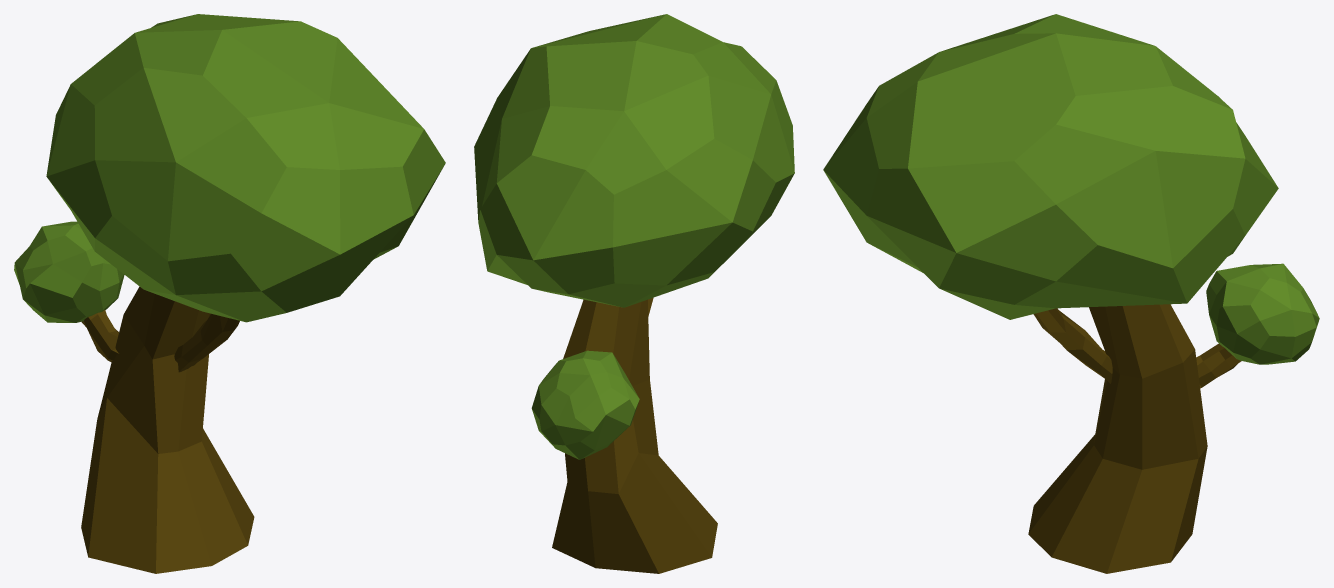
File: Tree2.fbx
3 renders of one model, left to right at view 1: azimuth 30°, elevation 25°; view 2: azimuth 150°, elevation 25°; view 3: azimuth 270°, elevation 25°, orthographic. The views are drawn at different scales.
Parts seen in each view (by area): view 1: pPlatonic5, pCube3, pPlatonic4, pCube4, pCube5; view 2: pPlatonic5, pCube3, pPlatonic4; view 3: pPlatonic5, pCube3, pPlatonic4, pCube4, pCube5.
Part boxes in pixels (x1=…): pPlatonic5: x1=46, y1=14, x2=445, y2=322; pCube3: x1=81, y1=286, x2=254, y2=573; pPlatonic4: x1=14, y1=221, x2=124, y2=322; pCube4: x1=174, y1=313, x2=239, y2=372; pCube5: x1=81, y1=310, x2=118, y2=362; pPlatonic5: x1=474, y1=14, x2=794, y2=307; pCube3: x1=552, y1=299, x2=717, y2=573; pPlatonic4: x1=531, y1=350, x2=639, y2=459; pPlatonic5: x1=823, y1=14, x2=1278, y2=319; pCube3: x1=1028, y1=304, x2=1207, y2=573; pPlatonic4: x1=1206, y1=263, x2=1319, y2=364; pCube4: x1=1033, y1=308, x2=1112, y2=383; pCube5: x1=1196, y1=343, x2=1241, y2=388.
Size of the model in its own units: 112 by 177 by 156.
